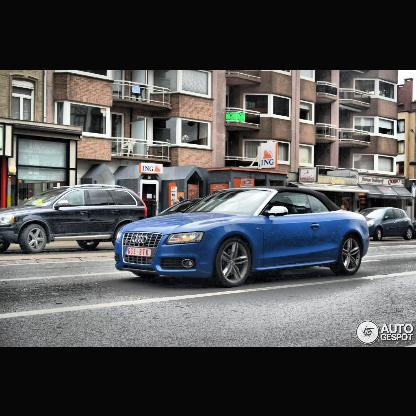Audi S5 Convertible 2012: (114, 186, 373, 289)
